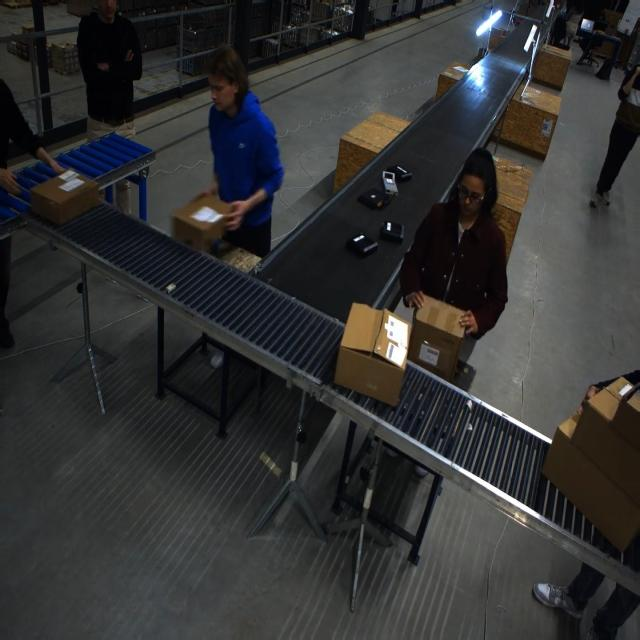box: (540, 374, 639, 551), (335, 302, 406, 402), (406, 296, 466, 384), (583, 378, 639, 459), (171, 194, 238, 253), (29, 172, 100, 226)
product: (345, 232, 377, 258), (357, 187, 392, 210), (379, 221, 404, 244), (385, 164, 411, 183), (381, 171, 398, 195)
